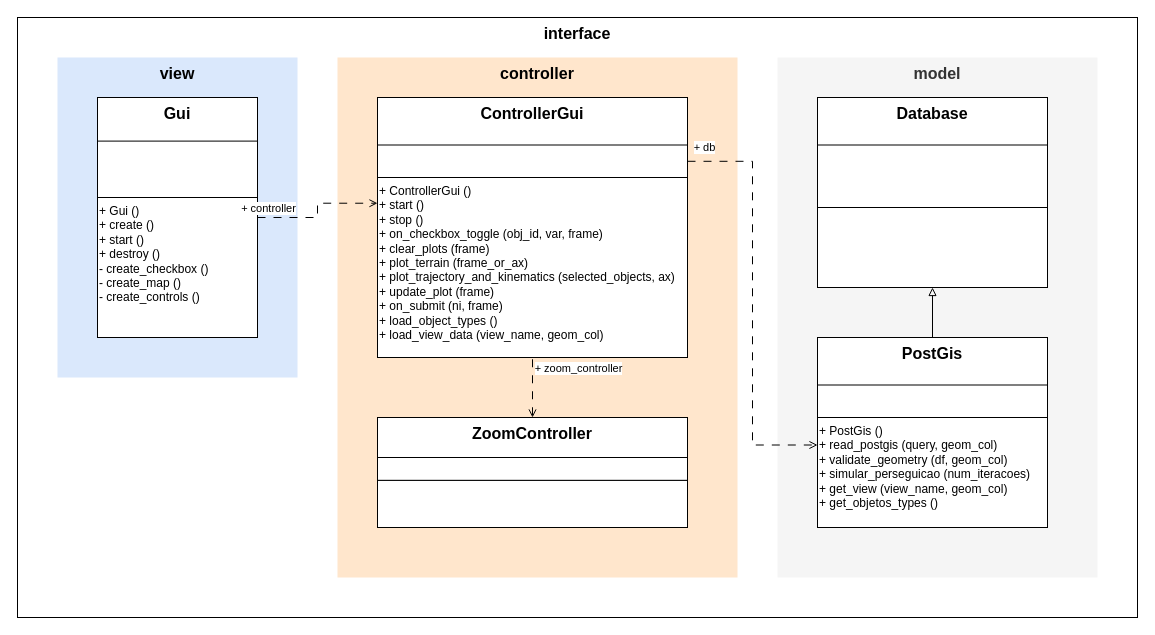
The diagram is 1155 pixels wide and 635 high, and some of its shapes have lost their labels. Each missing label, with the centre of its shape:
"+ Database () + connection () + disconnect () + read_sql ()" goes at [932,247].
"+ root + paned_window + graph_frame" goes at [177,169].
"+ selected_objects" goes at [532,161].
"+ setup_zoom_and_drag (canvas, ax)" goes at [532,503].
"- engine + connection + url" goes at [932,176].
